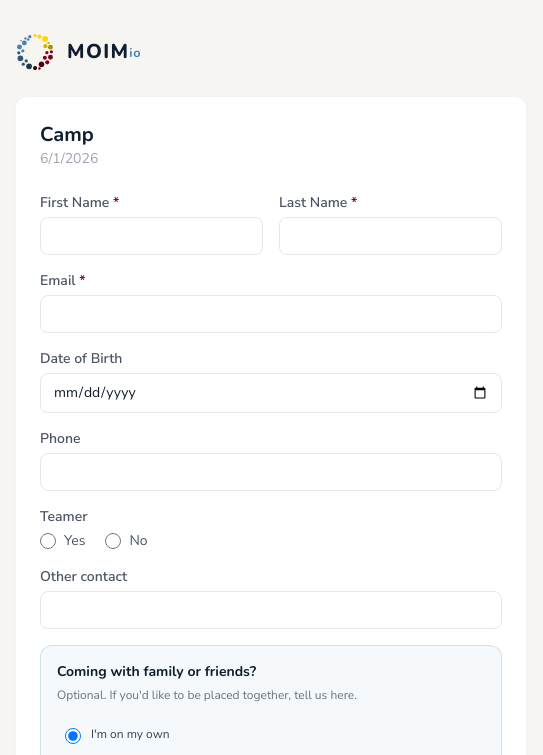
Test: RegisterPage conditional fields › refuses a phone number that is not one, in its own words
This screenshot has width=543, height=755.
Expected: the field named "email" below "Email" is shown, [40, 295, 502, 333]
Type "Ana" into the field below "First Name".
click(152, 236); type("Ana")  # box [40, 217, 263, 255]
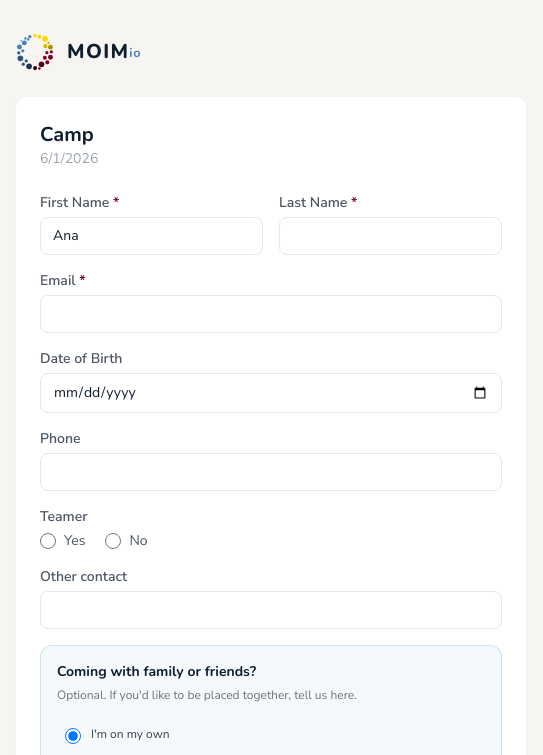
Type "Lee" into the field below "Last Name".
click(390, 236); type("Lee")  # box [279, 217, 502, 255]
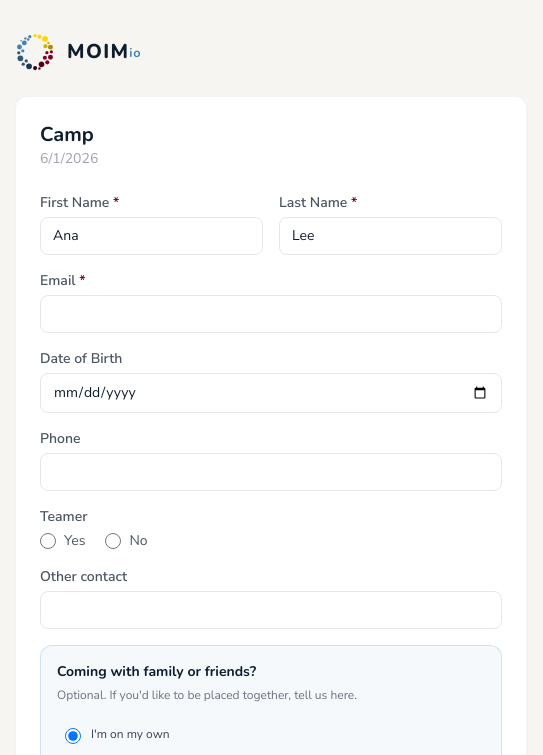
Type "ana@example.com" into the field named "email" below "Email".
click(271, 314); type("ana@example.com")  # box [40, 295, 502, 333]
(page scrolled)
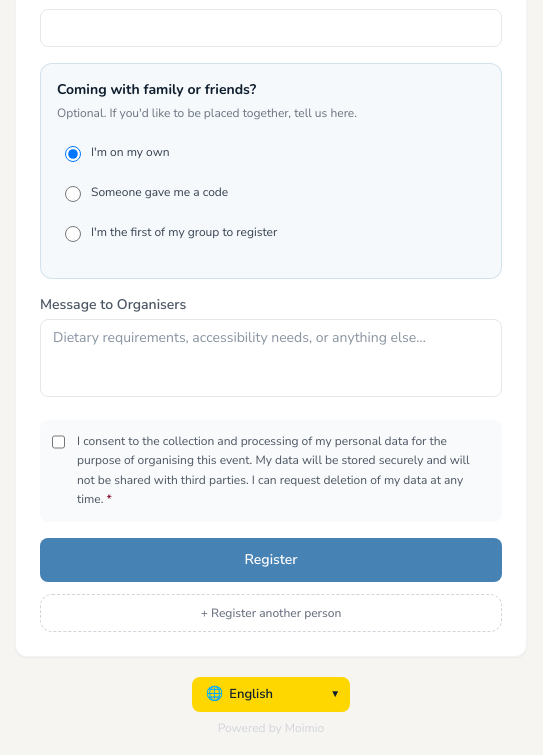
Click the checkbox named "gdpr_consent".
click(58, 442)  # box [52, 434, 65, 450]
(page scrolled)
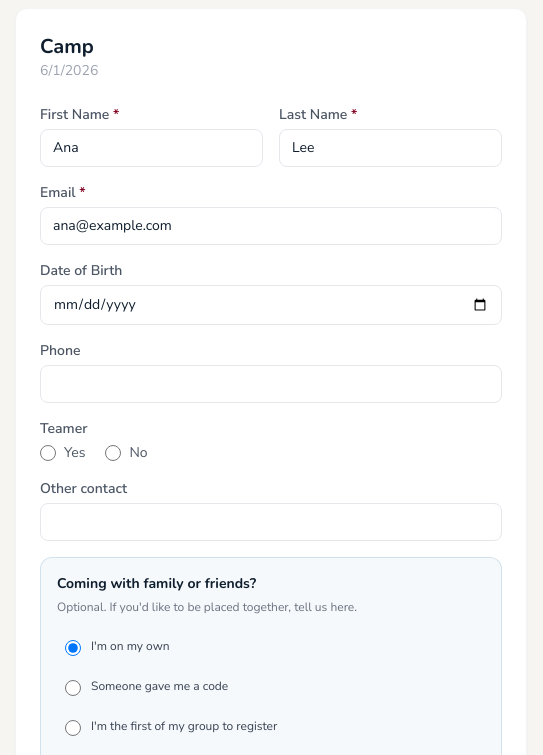
Type "ring me" into the field below "Phone".
click(271, 384); type("ring me")  # box [40, 365, 502, 403]
(page scrolled)
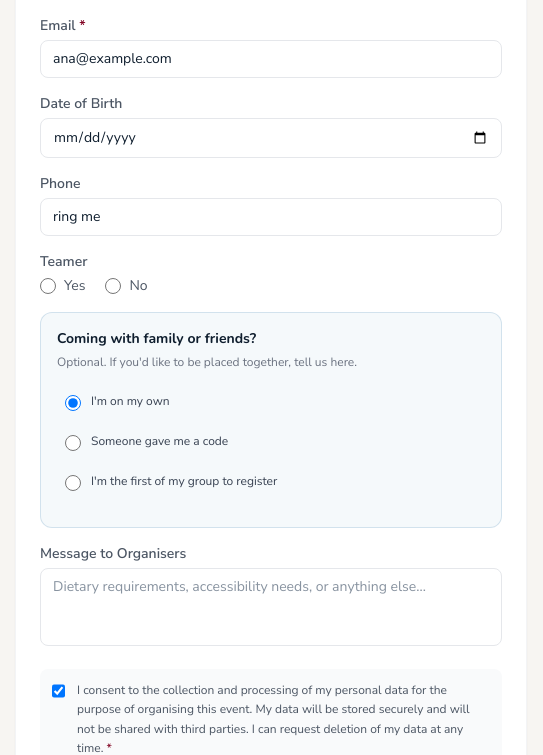
Submit the form with id "register-form"
(page scrolled)
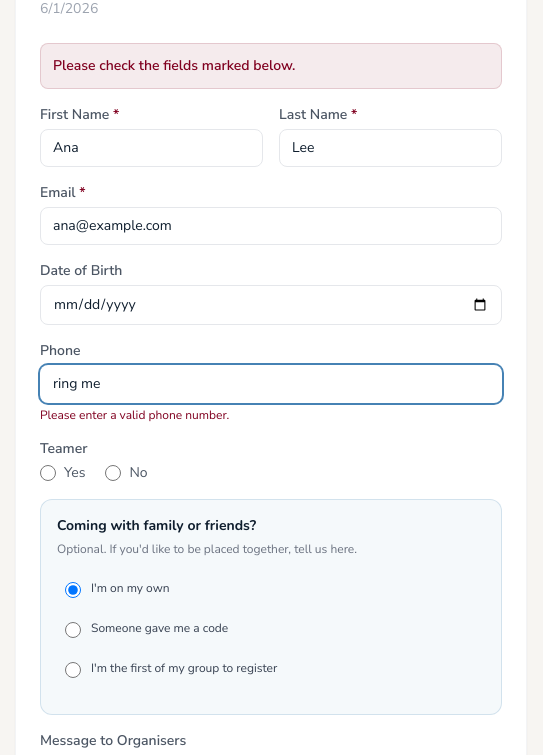
Expected: the text "Please enter a valid phone number." is shown, [40, 407, 229, 423]
